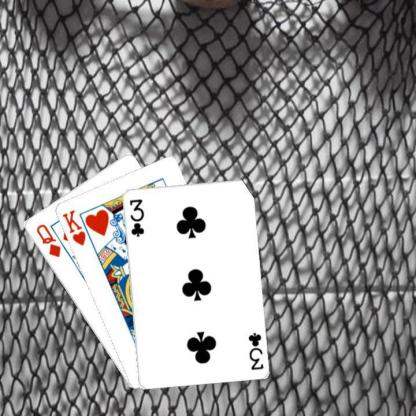3C: (246, 329, 264, 371), (127, 196, 145, 237)
KH: (59, 207, 87, 247)
QD: (33, 221, 62, 259)
